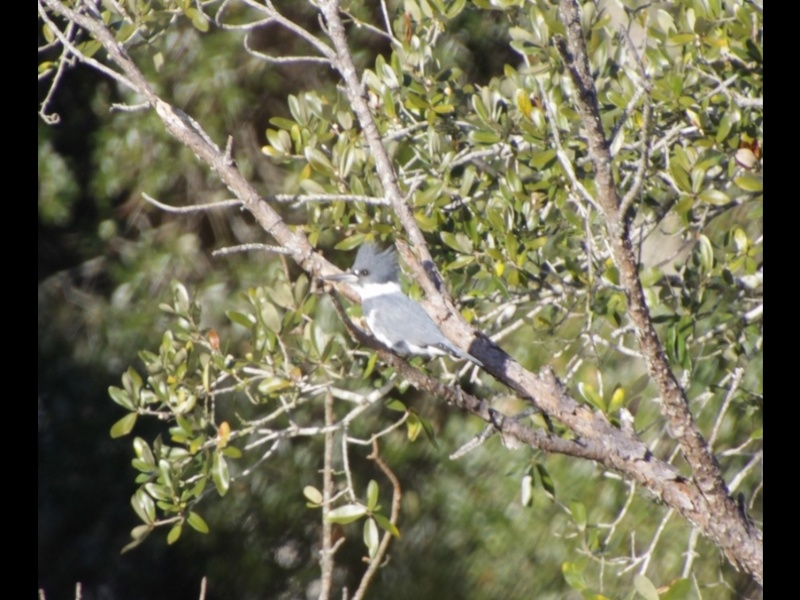kingfisher: (319, 240, 488, 374)
